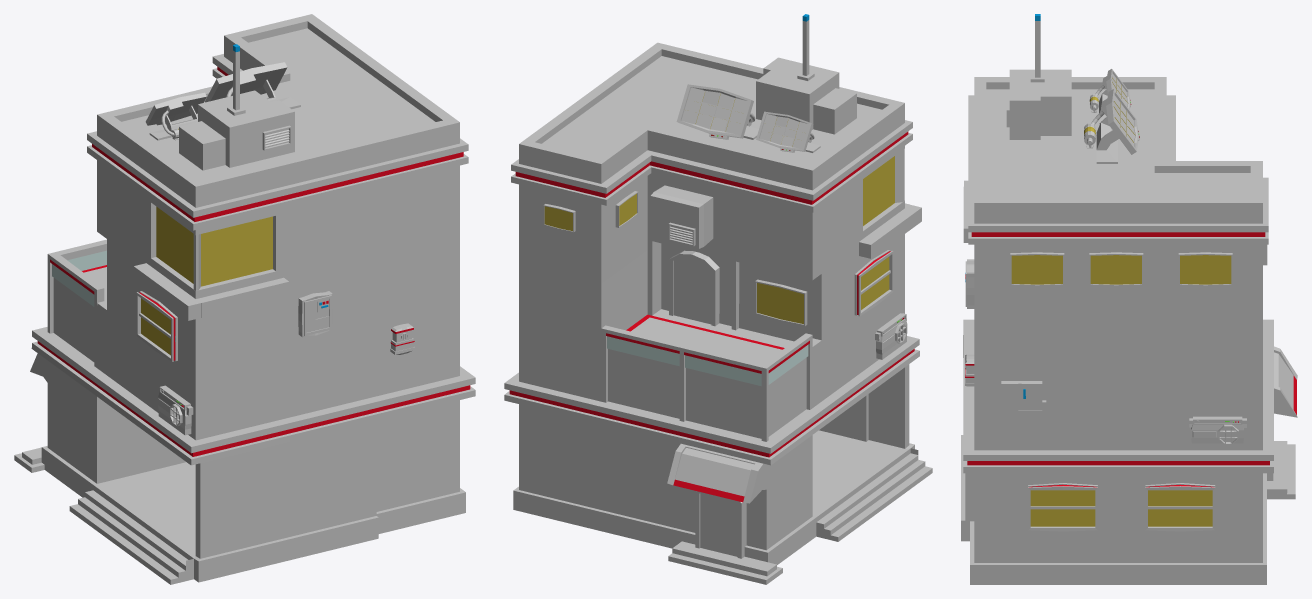
The model's file is House_NeoHouse05.fbx.
3 renders of one model, left to right at view 1: azimuth 30°, elevation 25°; view 2: azimuth 150°, elevation 25°; view 3: azimuth 270°, elevation 25°, orthographic. The views are drawn at different scales.
Parts seen in each view (by area): view 1: Well Lit Cube Home.001; view 2: Well Lit Cube Home.001; view 3: Well Lit Cube Home.001.
Boxes of the visible parts, x1,y1,x2,y2 form: Well Lit Cube Home.001: (14, 14, 475, 584); Well Lit Cube Home.001: (504, 14, 932, 584); Well Lit Cube Home.001: (961, 14, 1297, 584).
Bounding box in the file's own units: 631 × 979 × 626.
